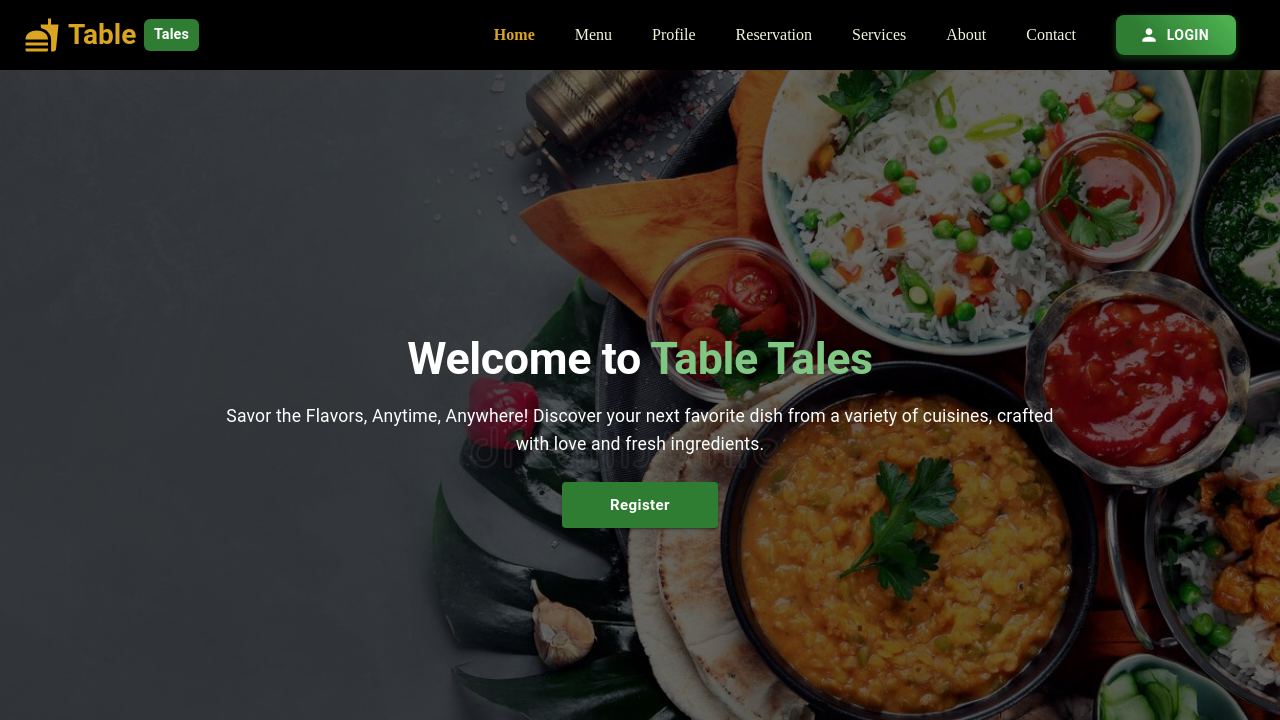
Home Page › Registration Dialog › should show dialog buttons
The width and height of the screenshot is (1280, 720).
Click the button "Register" at (640, 505), box [562,482,718,527]
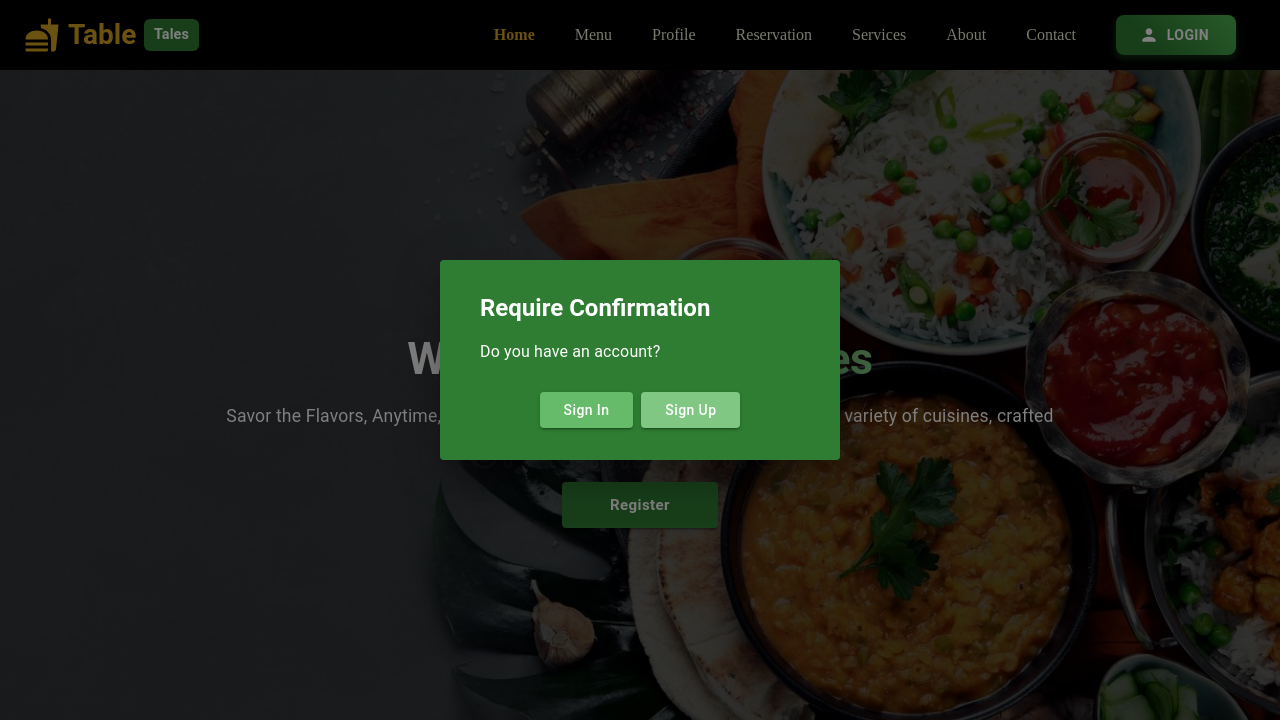
expect the link "Sign In" is shown: met, box [540,392,633,428]
expect the link "Sign Up" is shown: met, box [641,392,740,428]
